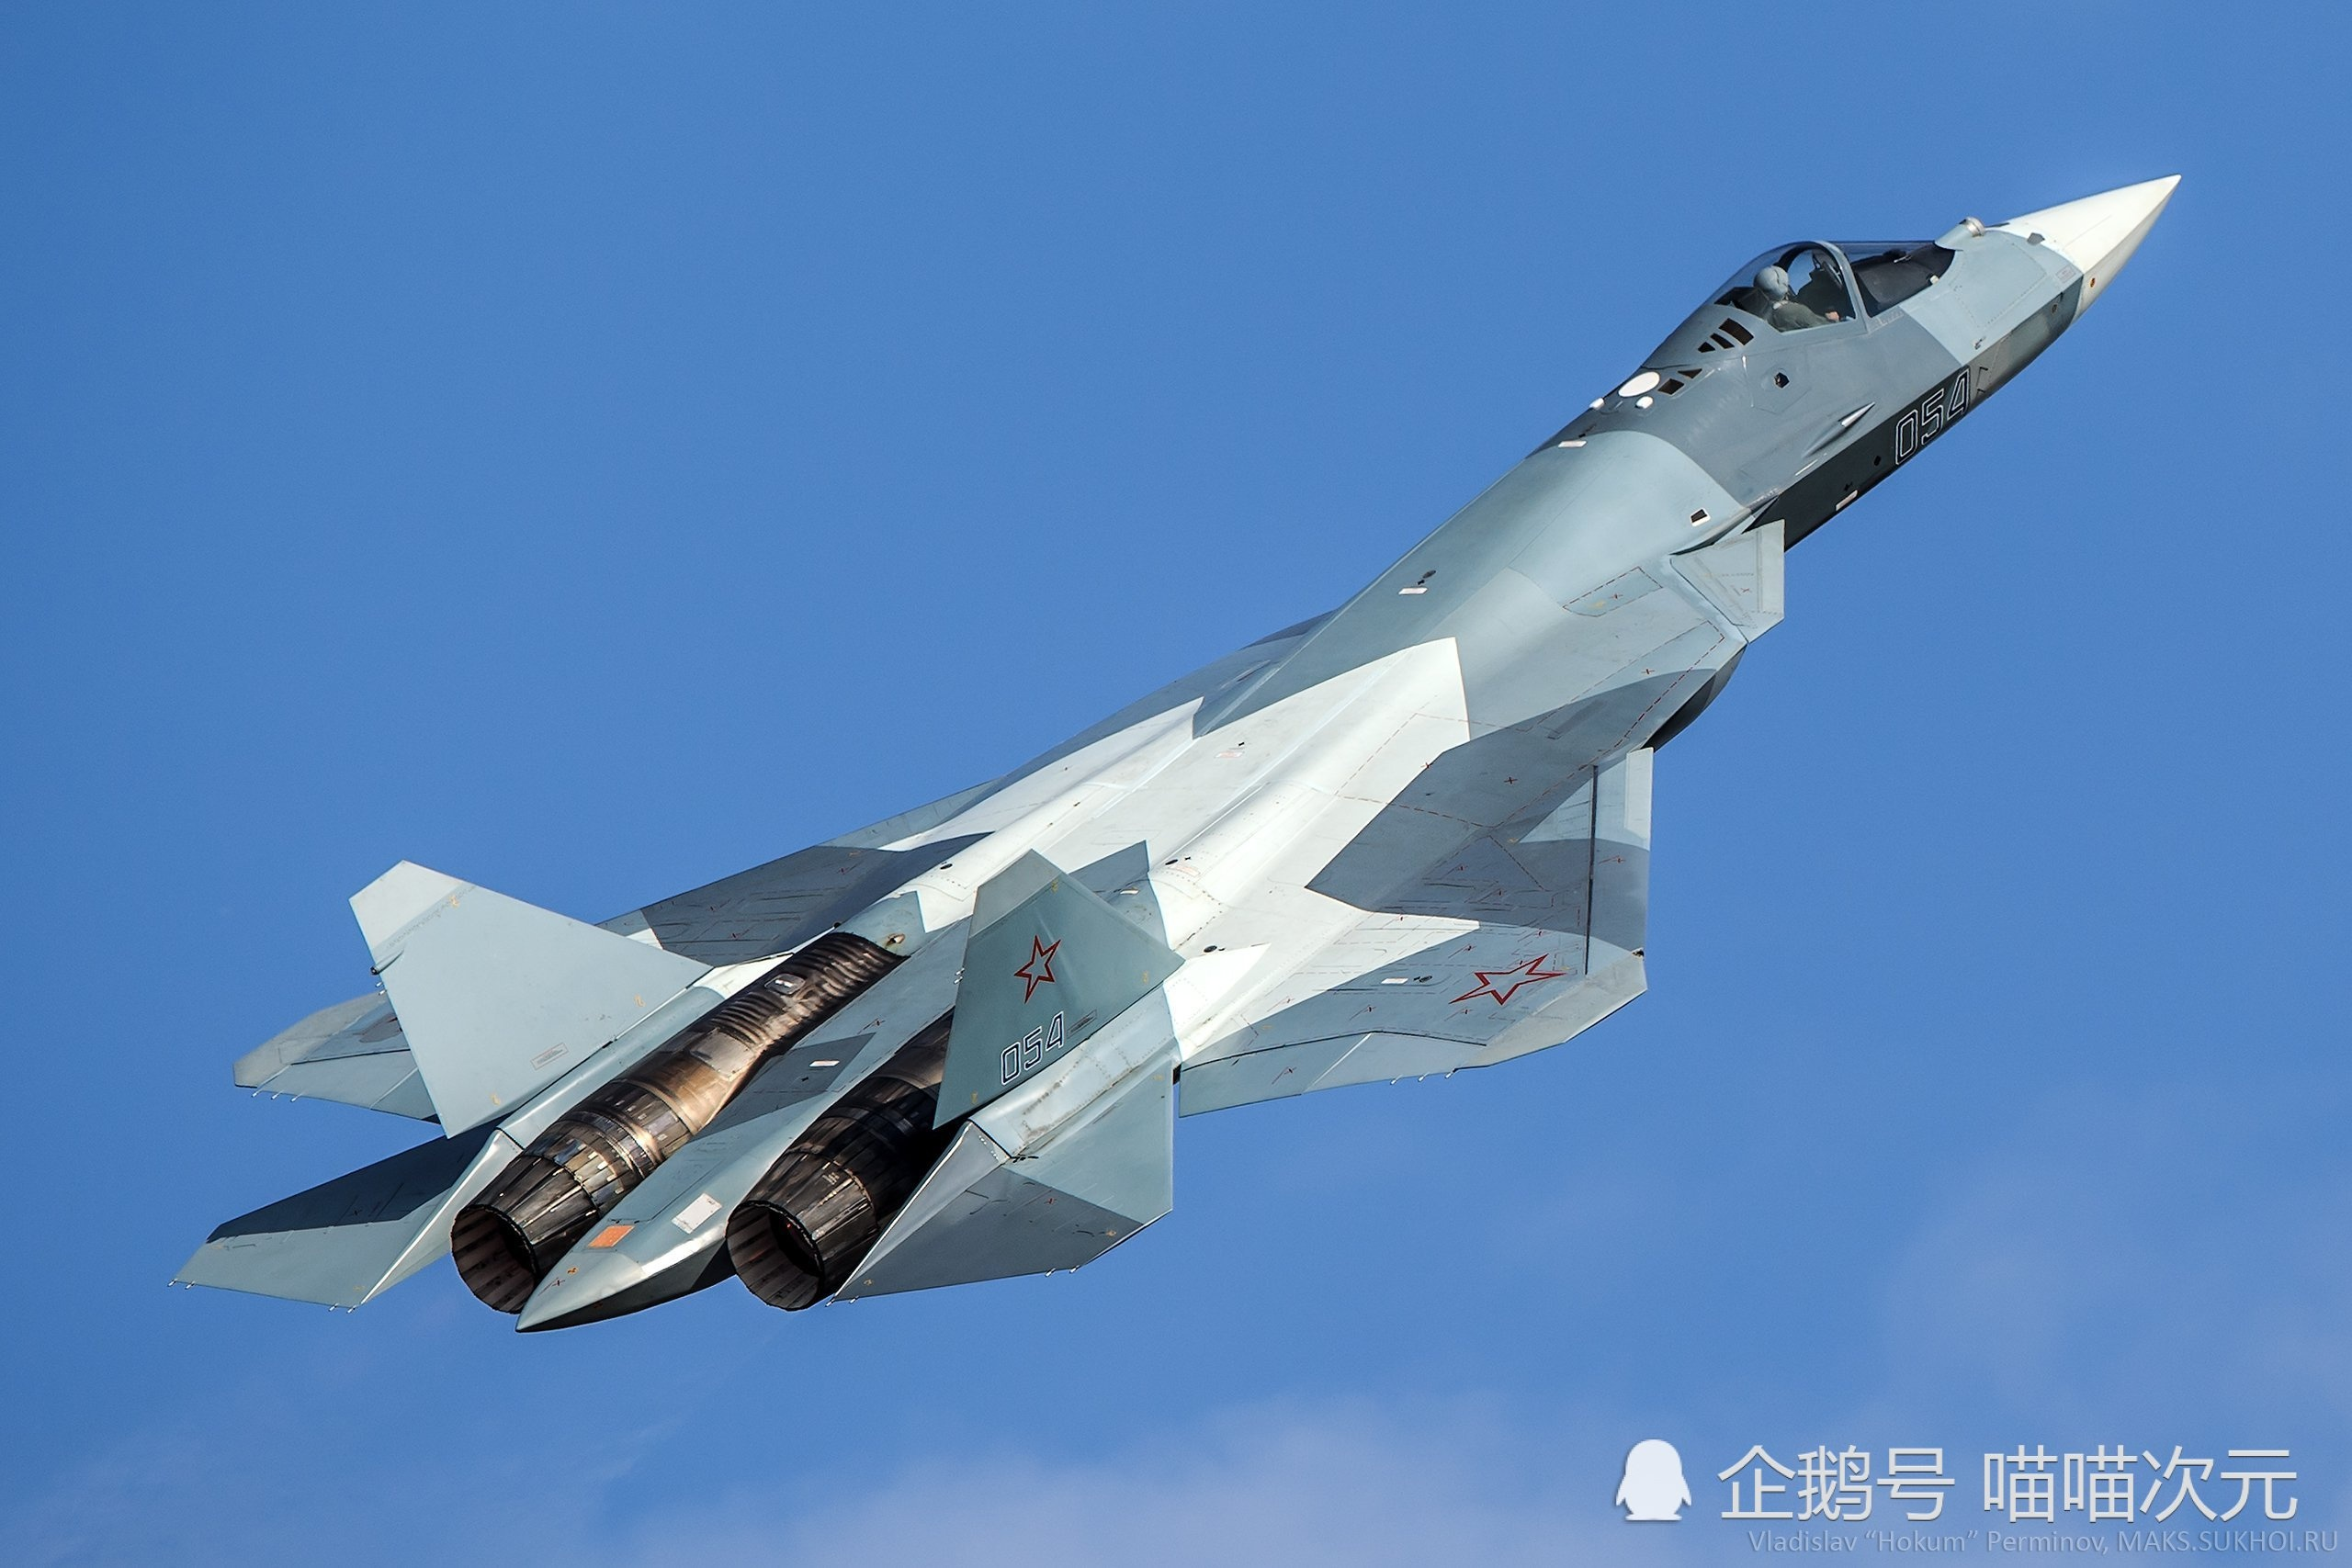airplane: (149, 161, 2187, 1335)
